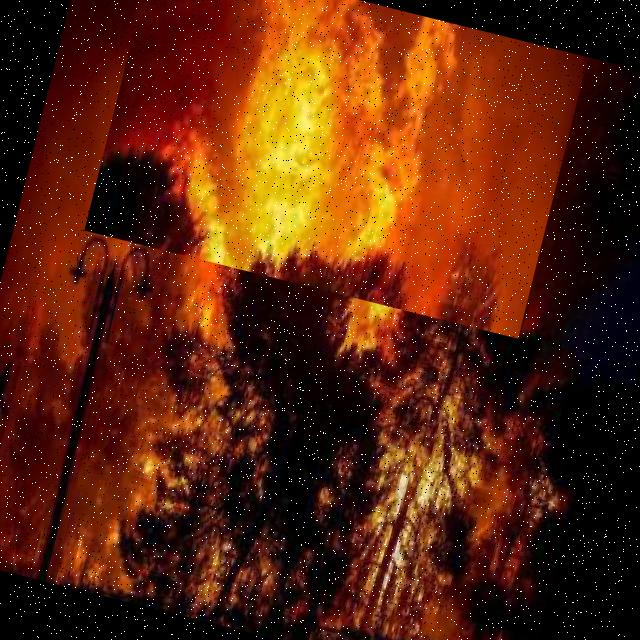fire: (83, 0, 587, 338)
